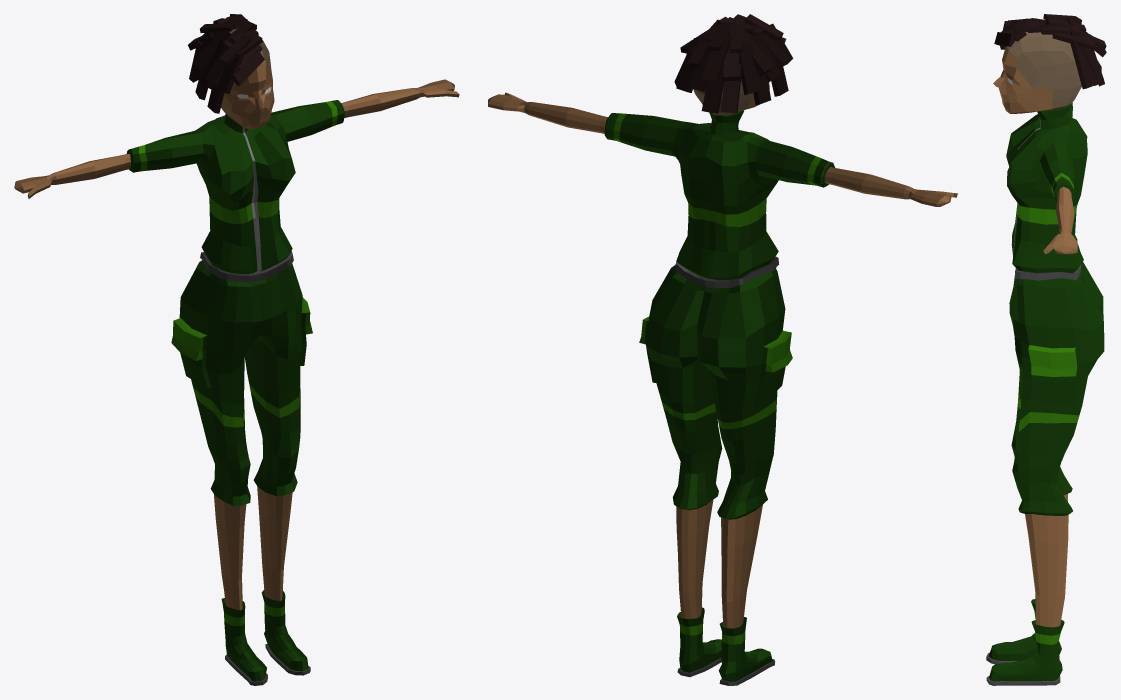
Rendered from woman_07.fbx.
3 views of the same model, side by side, from view 1: azimuth 30°, elevation 25°; view 2: azimuth 150°, elevation 25°; view 3: azimuth 270°, elevation 25° (orthographic). The views are drawn at different scales.
Parts seen in each view (by area): view 1: Box048; view 2: Box048; view 3: Box048.
Boxes of the visible parts, bbox=[...] form: Box048: bbox=[14, 14, 459, 685]; Box048: bbox=[488, 14, 957, 685]; Box048: bbox=[986, 14, 1106, 685].
Bounding box in the file's own units: 259 × 357 × 60.59.
